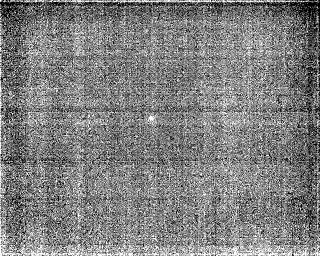BIRD: (146, 112, 158, 125)
